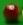brown: (0, 0, 23, 25)
